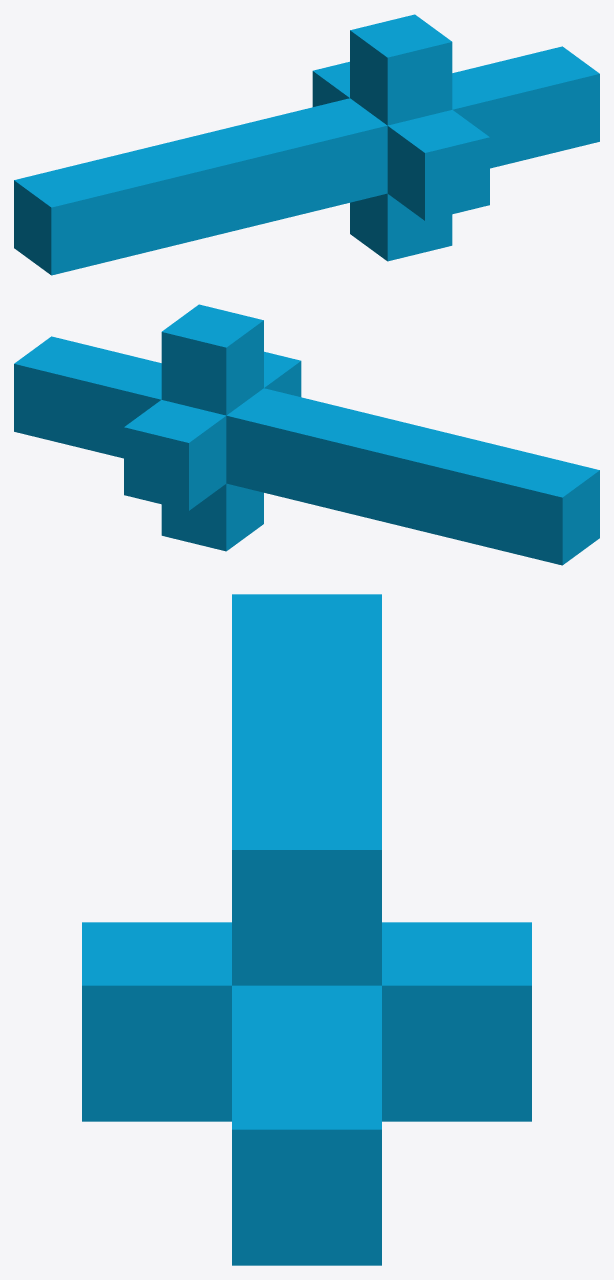
The model's file is plus1.glb.
3 renders of one model, top to bottom at view 1: azimuth 30°, elevation 25°; view 2: azimuth 150°, elevation 25°; view 3: azimuth 270°, elevation 25°, orthographic. The views are drawn at different scales.
Visible parts, largest first — view 1: Cube; view 2: Cube; view 3: Cube.
Part boxes in pixels (x1,y1,x2,y2): Cube: [14, 14, 599, 275]; Cube: [14, 304, 599, 565]; Cube: [82, 594, 531, 1265].
Bounding box in the file's own units: 16.9 × 6 × 6.
